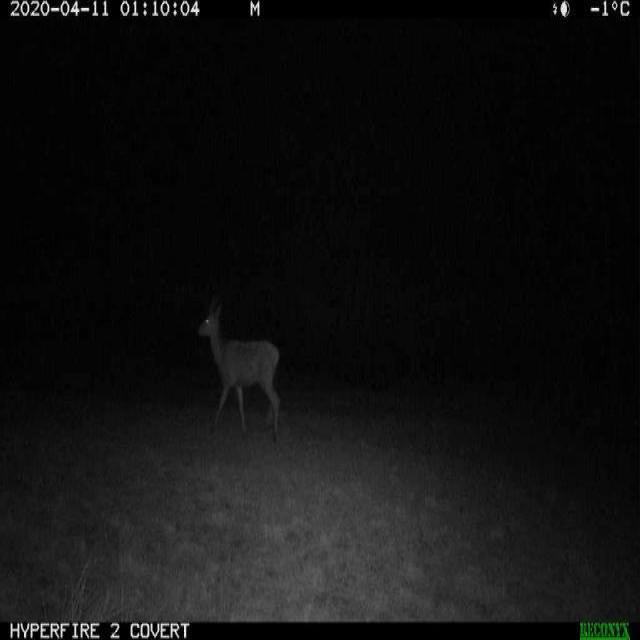deer: (188, 280, 287, 448), (17, 277, 108, 432)
